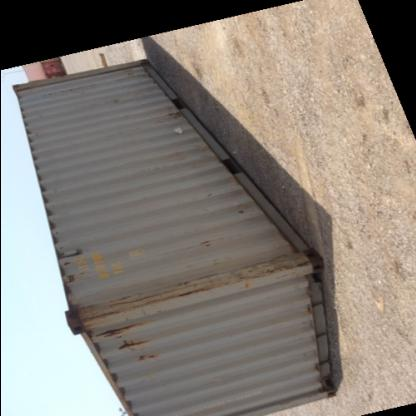Damage: (191, 254, 307, 302), (90, 321, 160, 375), (64, 297, 146, 320), (156, 109, 190, 143), (114, 61, 146, 82), (60, 258, 80, 286), (226, 204, 256, 220), (189, 233, 217, 250), (98, 96, 130, 110), (197, 189, 214, 201)
